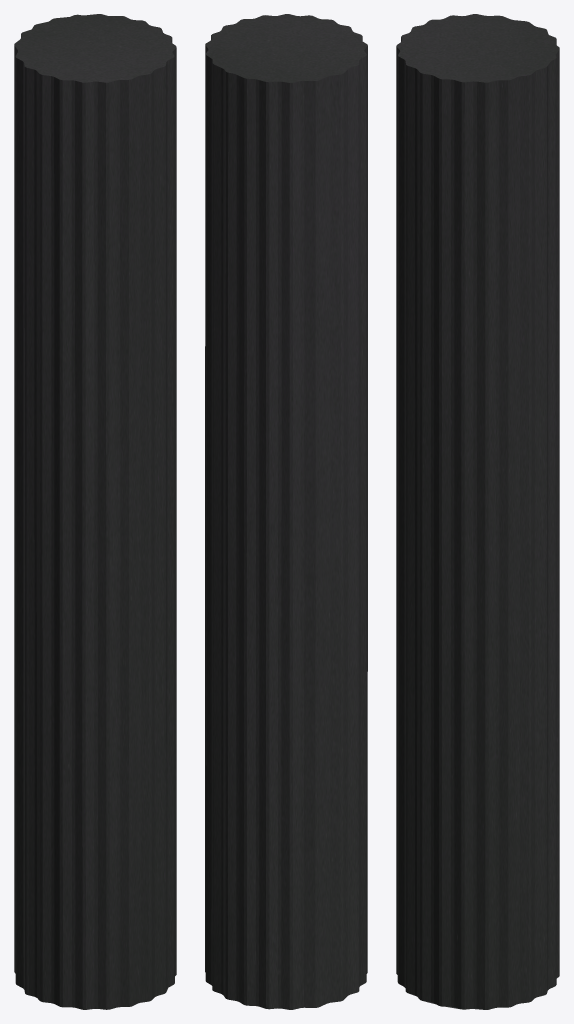
The model's file is Pilar.fbx.
The picture shows the model from 3 angles, left to right: view 1: azimuth 30°, elevation 25°; view 2: azimuth 150°, elevation 25°; view 3: azimuth 270°, elevation 25°; orthographic projection.
Parts seen in each view (by area): view 1: Cylinder; view 2: Cylinder; view 3: Cylinder.
Boxes of the visible parts, x1,y1,x2,y2 form: Cylinder: (14, 14, 176, 1009); Cylinder: (205, 14, 367, 1009); Cylinder: (396, 14, 559, 1009).
Bounding box in the file's own units: 131 × 820 × 131.
